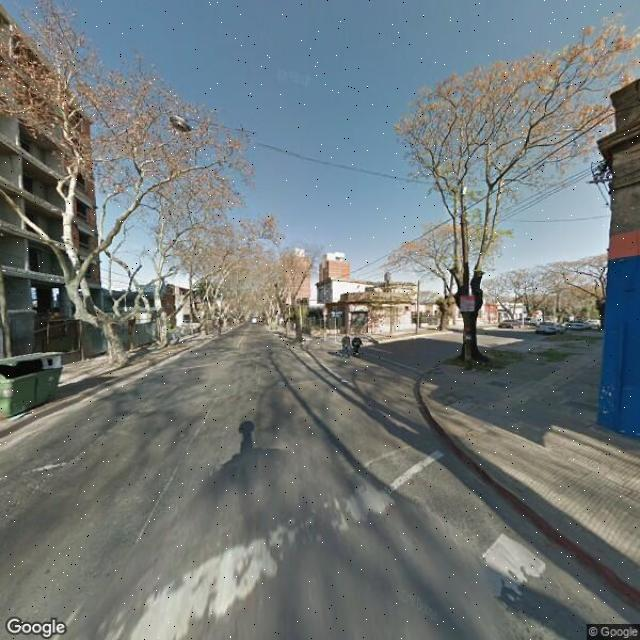garbage container: (1, 340, 74, 422)
